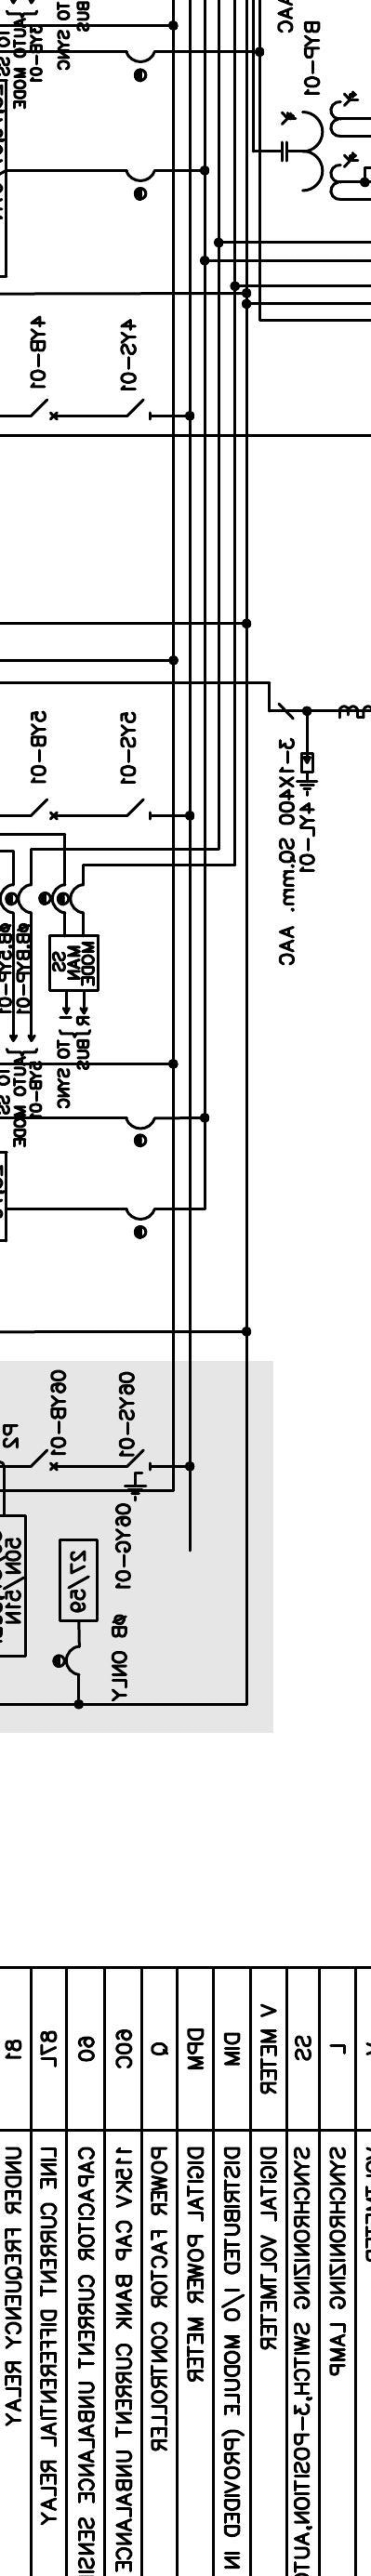115_breaker: (30, 398, 59, 421), (30, 798, 59, 821), (30, 1449, 59, 1471)
115_cvt_3p: (280, 90, 360, 201)
115_ds: (126, 798, 152, 821), (126, 398, 151, 421)
115_la: (295, 752, 319, 798)
ss_man_mode: (48, 933, 100, 992)
